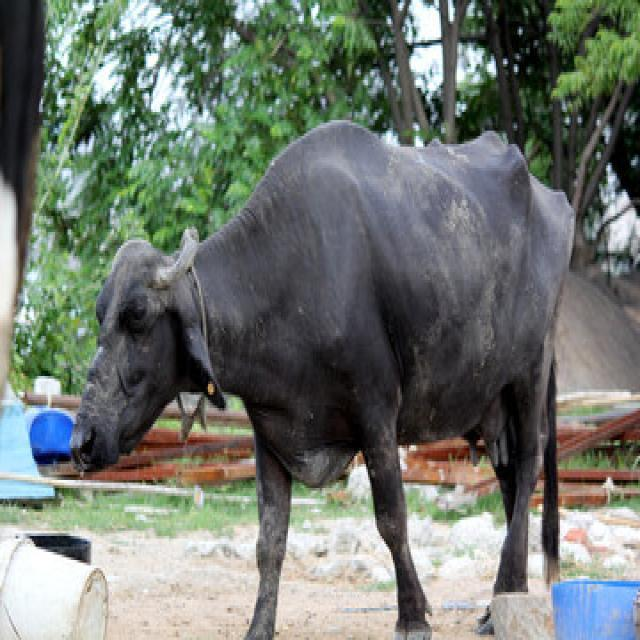Buffalo: (66, 112, 578, 637)
